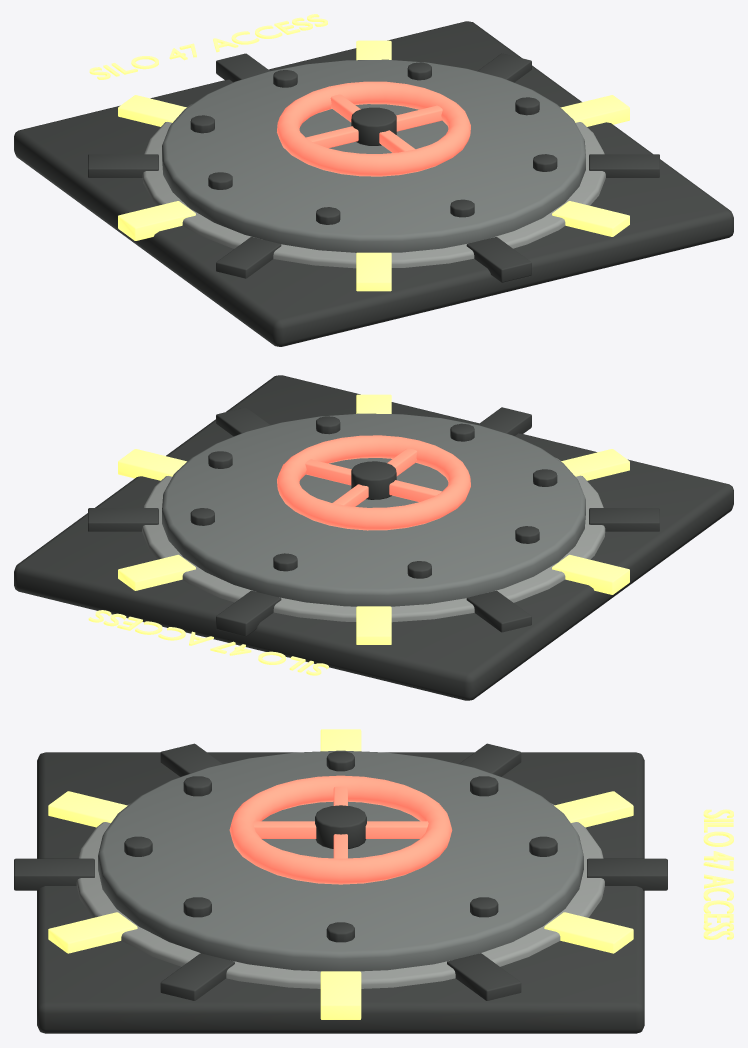
Rendered from access_hatch_v3.glb.
The picture shows the model from 3 angles, top to bottom: view 1: azimuth 30°, elevation 25°; view 2: azimuth 150°, elevation 25°; view 3: azimuth 270°, elevation 25°; orthographic projection. The views are drawn at different scales.
Visible parts, largest first — view 1: Hatch_Lid, Hatch_Frame, Hatch_Wheel, Hatch_Ring, Hatch_Label, Hatch_Hazard_6, Hatch_Hazard_3, Hatch_Hazard_2, Hatch_Hazard_5, Hatch_Hazard_7, Hatch_Hazard_1, Hatch_Hazard_0 (+8 smaller); view 2: Hatch_Lid, Hatch_Frame, Hatch_Wheel, Hatch_Ring, Hatch_Label, Hatch_Hazard_6, Hatch_Hazard_9, Hatch_Hazard_10, Hatch_Hazard_7, Hatch_Hazard_5, Hatch_Hazard_11, Hatch_Hazard_0 (+8 smaller); view 3: Hatch_Lid, Hatch_Frame, Hatch_Wheel, Hatch_Ring, Hatch_Label, Hatch_Hazard_3, Hatch_Hazard_9, Hatch_Hazard_10, Hatch_Hazard_2, Hatch_Hazard_11, Hatch_Hazard_1, Hatch_Hazard_0 (+16 smaller).
Part boxes in pixels (x1=…): Hatch_Lid: x1=162, y1=59, x2=585, y2=252; Hatch_Frame: x1=14, y1=21, x2=733, y2=346; Hatch_Wheel: x1=277, y1=81, x2=470, y2=176; Hatch_Ring: x1=142, y1=104, x2=605, y2=268; Hatch_Label: x1=89, y1=14, x2=327, y2=79; Hatch_Hazard_6: x1=118, y1=201, x2=195, y2=240; Hatch_Hazard_3: x1=466, y1=237, x2=531, y2=282; Hatch_Hazard_2: x1=552, y1=201, x2=629, y2=236; Hatch_Hazard_5: x1=216, y1=237, x2=281, y2=278; Hatch_Hazard_7: x1=88, y1=154, x2=158, y2=177; Hatch_Hazard_1: x1=589, y1=154, x2=659, y2=177; Hatch_Hazard_0: x1=560, y1=95, x2=629, y2=126; Hatch_Lid: x1=162, y1=413, x2=585, y2=606; Hatch_Frame: x1=14, y1=375, x2=733, y2=700; Hatch_Wheel: x1=277, y1=435, x2=470, y2=530; Hatch_Ring: x1=142, y1=457, x2=605, y2=622; Hatch_Label: x1=88, y1=610, x2=328, y2=675; Hatch_Hazard_6: x1=552, y1=554, x2=629, y2=594; Hatch_Hazard_9: x1=216, y1=590, x2=281, y2=636; Hatch_Hazard_10: x1=118, y1=554, x2=195, y2=590; Hatch_Hazard_7: x1=466, y1=590, x2=531, y2=632; Hatch_Hazard_5: x1=589, y1=508, x2=659, y2=531; Hatch_Hazard_11: x1=88, y1=508, x2=158, y2=531; Hatch_Hazard_0: x1=118, y1=449, x2=186, y2=480; Hatch_Lid: x1=98, y1=750, x2=583, y2=971; Hatch_Frame: x1=37, y1=752, x2=644, y2=1033; Hatch_Wheel: x1=229, y1=775, x2=452, y2=884; Hatch_Ring: x1=76, y1=803, x2=604, y2=988; Hatch_Label: x1=703, y1=809, x2=733, y2=939; Hatch_Hazard_3: x1=14, y1=858, x2=94, y2=890; Hatch_Hazard_9: x1=587, y1=858, x2=667, y2=890; Hatch_Hazard_10: x1=544, y1=912, x2=633, y2=953; Hatch_Hazard_2: x1=48, y1=912, x2=137, y2=953; Hatch_Hazard_11: x1=447, y1=953, x2=521, y2=1000; Hatch_Hazard_1: x1=160, y1=953, x2=234, y2=1000; Hatch_Hazard_0: x1=320, y1=971, x2=361, y2=1019.
Bounding box in the file's own units: 2.26 × 0.355 × 2.49.
